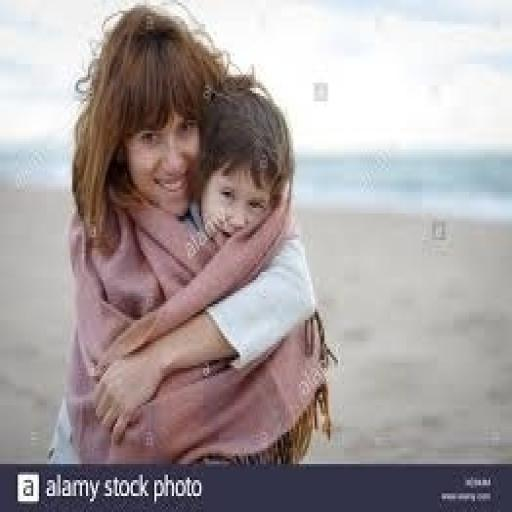hugging: (47, 0, 332, 467)
